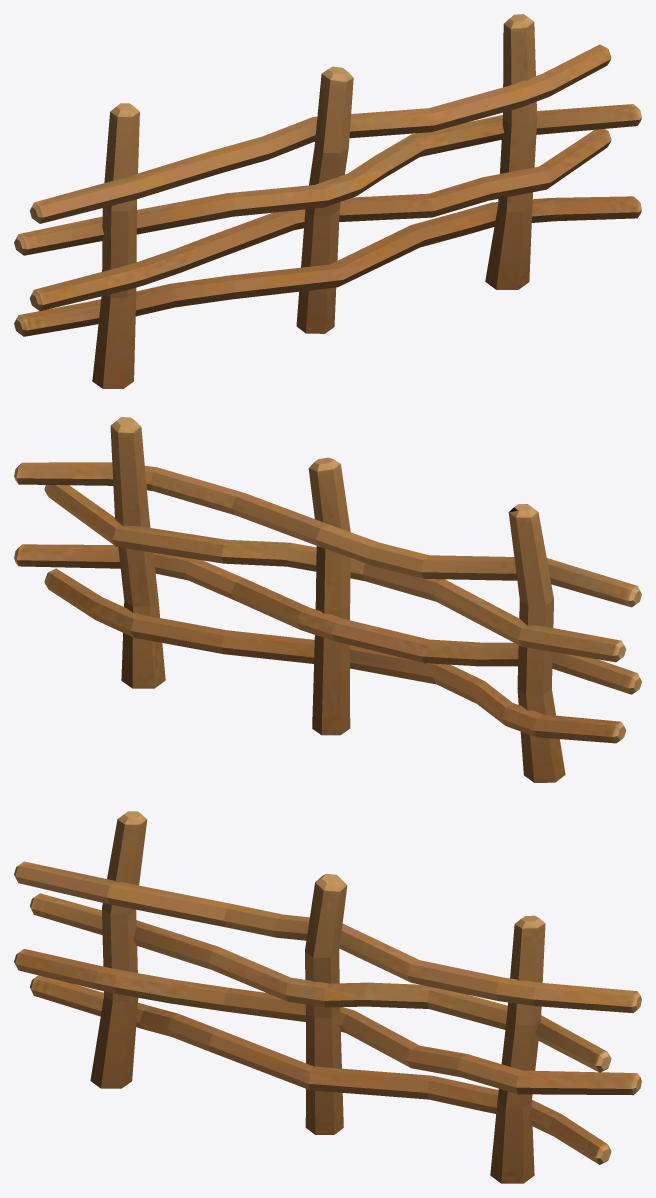
Rendered from fence_lattice.glb.
3 renders of one model, top to bottom at view 1: azimuth 30°, elevation 25°; view 2: azimuth 150°, elevation 25°; view 3: azimuth 330°, elevation 25°, orthographic.
Parts seen in each view (by area): view 1: fence_lattice; view 2: fence_lattice; view 3: fence_lattice.
Boxes of the visible parts, x1,y1,x2,y2 form: fence_lattice: (14, 14, 641, 388); fence_lattice: (14, 417, 641, 782); fence_lattice: (14, 811, 641, 1183).
Bounding box in the file's own units: 2.34 × 1 × 0.297.
1 material, 1 textured.
